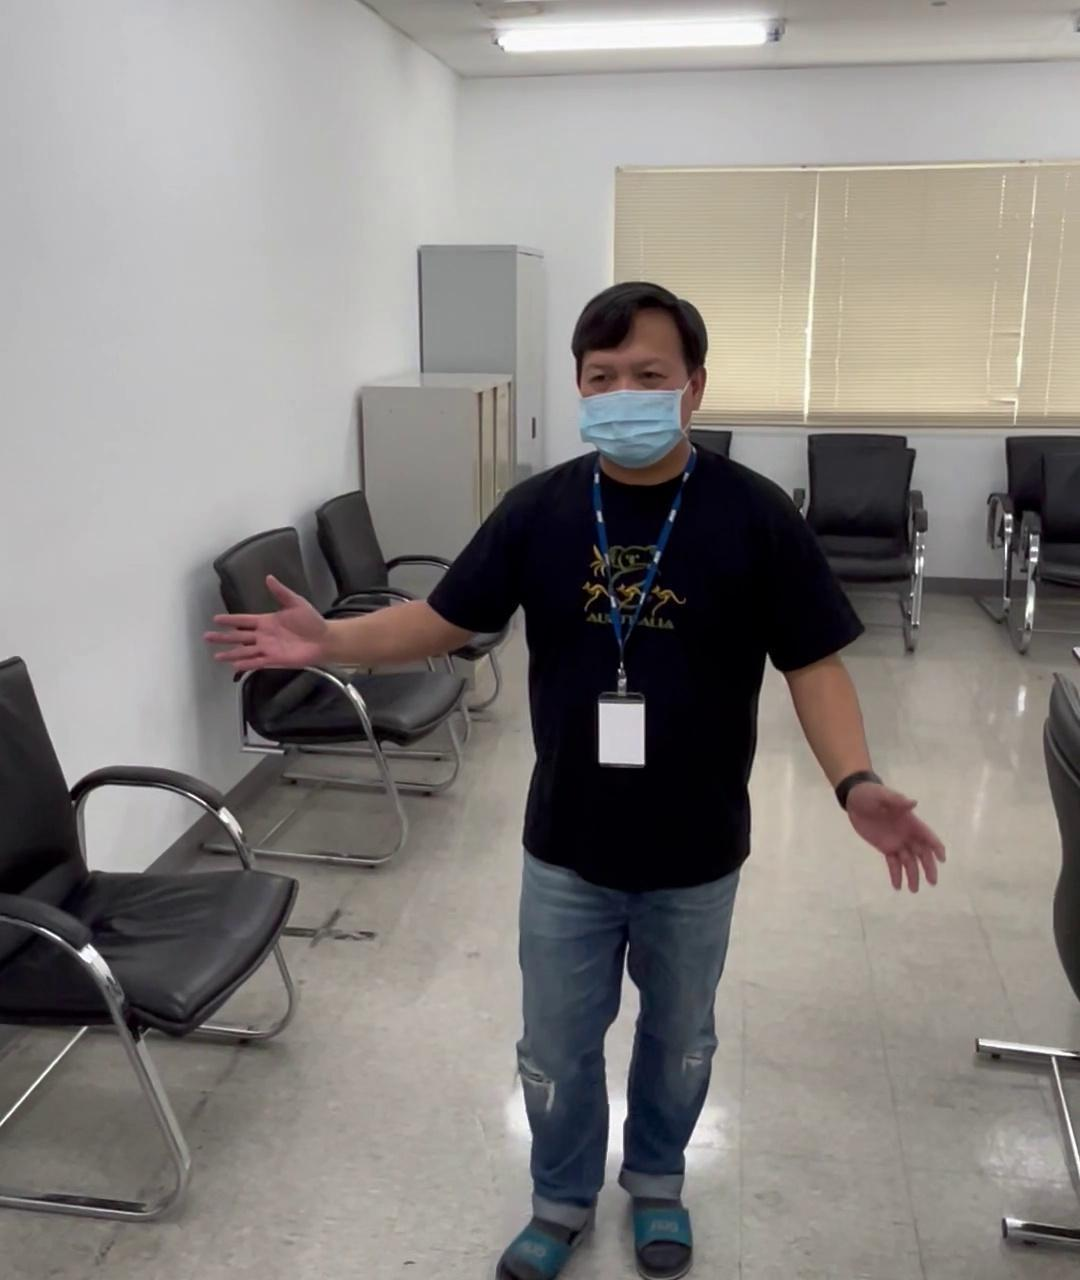No-gloves: (202, 570, 336, 682), (836, 778, 948, 897)
